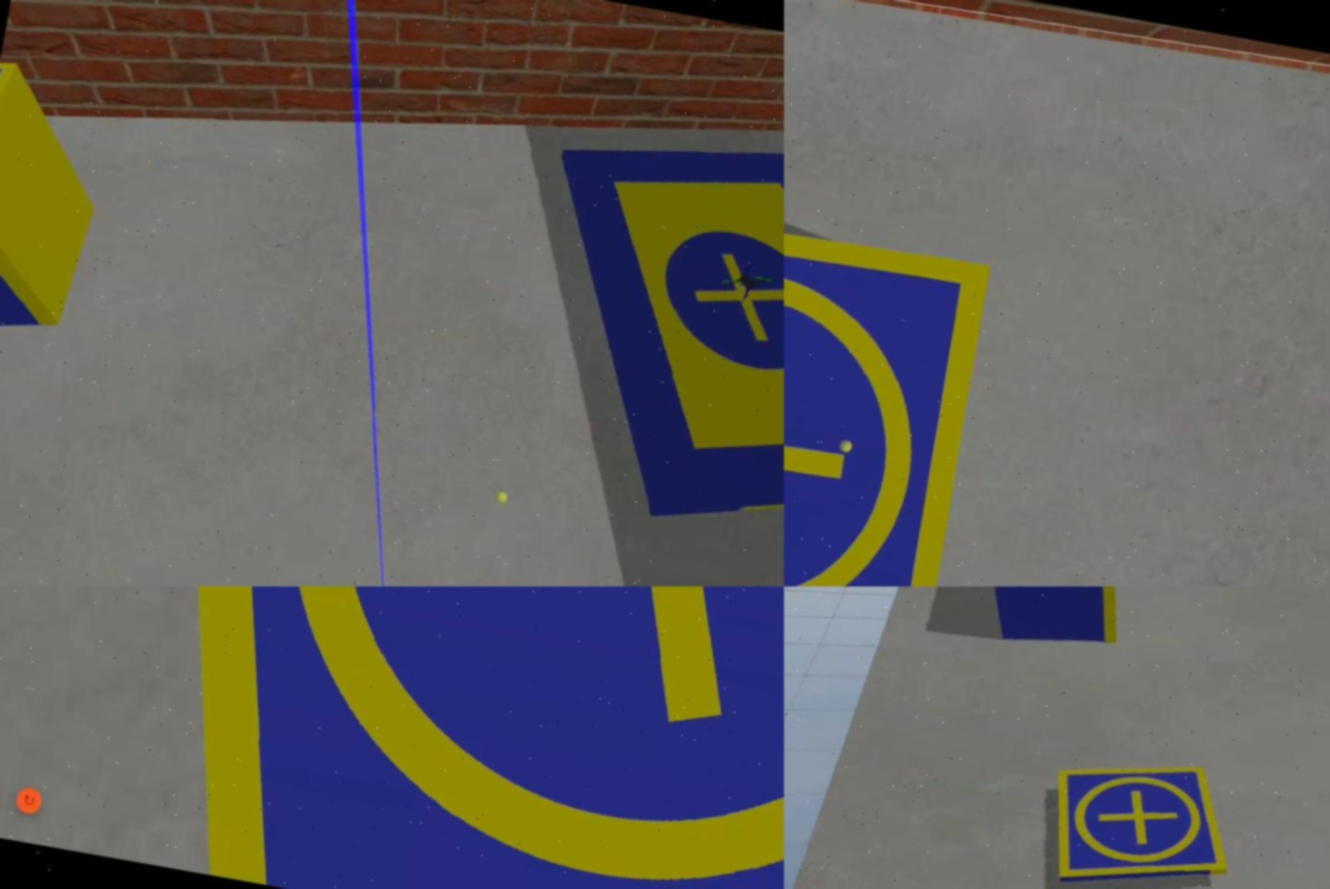large_base: (500, 109, 784, 575)
small_base: (53, 587, 784, 889), (784, 185, 992, 587), (1038, 742, 1246, 889)
